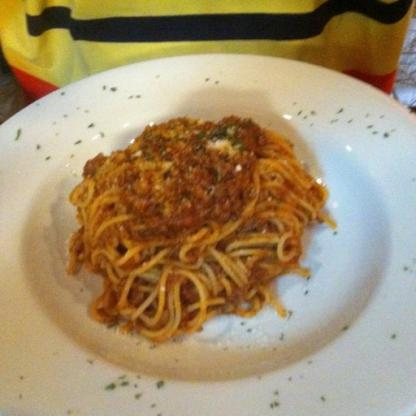pasta: (68, 119, 320, 328)
